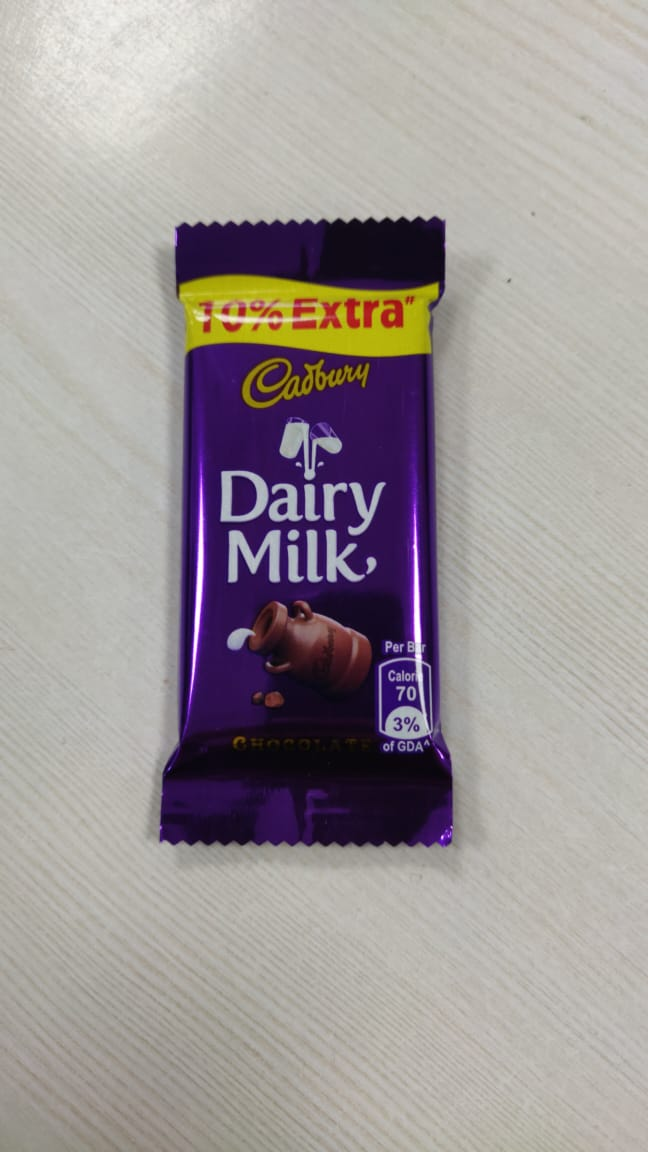dairy milk: (161, 207, 456, 856)
